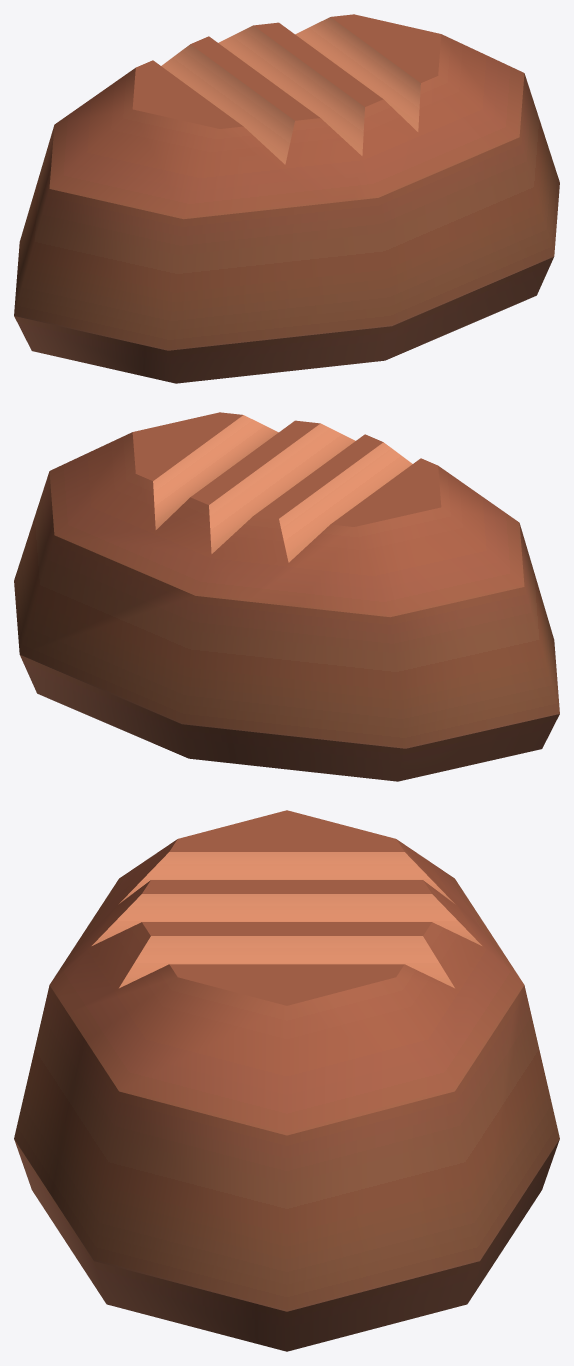
The model's file is loaf-round.f2e91080da.glb.
The picture shows the model from 3 angles, top to bottom: view 1: azimuth 30°, elevation 25°; view 2: azimuth 150°, elevation 25°; view 3: azimuth 270°, elevation 25°; orthographic projection. The views are drawn at different scales.
Visible parts, largest first — view 1: loaf-round; view 2: loaf-round; view 3: loaf-round.
Part boxes in pixels (x1,y1,x2,y2): loaf-round: (14,14,559,383); loaf-round: (14,412,559,781); loaf-round: (14,810,559,1351).
Bounding box in the file's own units: 0.7717 × 0.2932 × 0.5145.
Materials: 1 (1 with a texture image).
